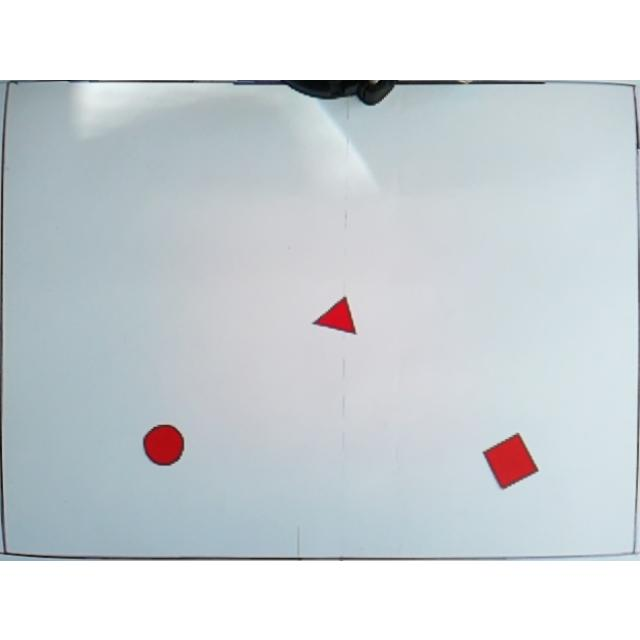redCircle: (142, 419, 186, 469)
redSquare: (481, 430, 541, 490)
redTriangle: (312, 294, 360, 334)
